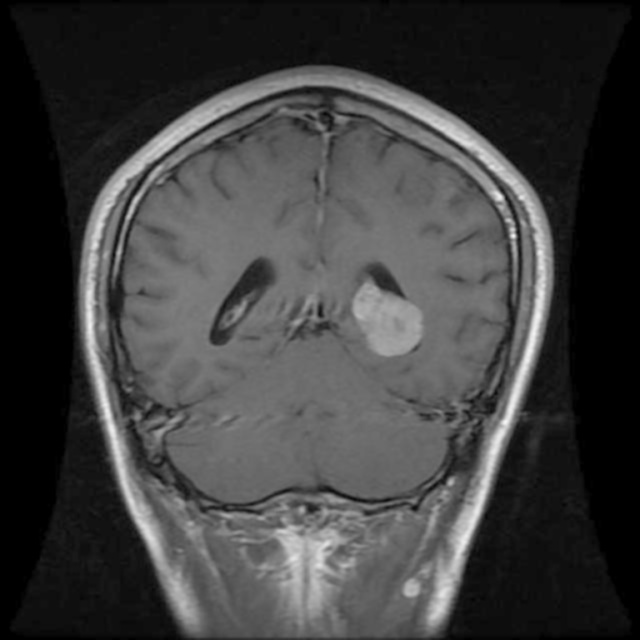meningioma tumor: (339, 276, 440, 369)
